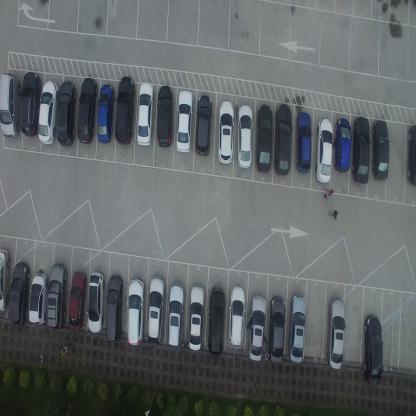car: (325, 296, 346, 370), (362, 313, 383, 386), (45, 262, 67, 331), (76, 76, 98, 144), (20, 71, 42, 137), (8, 260, 30, 326), (273, 102, 292, 176), (115, 76, 135, 146), (0, 70, 20, 140), (126, 277, 146, 347), (105, 272, 124, 344), (56, 79, 76, 147), (38, 78, 58, 146), (266, 296, 286, 364), (246, 294, 266, 362), (186, 283, 205, 353), (207, 286, 226, 356), (287, 293, 306, 363), (352, 114, 370, 186), (314, 116, 333, 184), (148, 276, 166, 345), (254, 104, 272, 172), (136, 80, 154, 146), (166, 282, 184, 348), (217, 100, 235, 165), (194, 94, 212, 158), (294, 110, 312, 174), (86, 271, 104, 335), (371, 118, 389, 181), (68, 269, 86, 332), (332, 117, 352, 173), (28, 271, 48, 326), (96, 83, 114, 143), (176, 89, 192, 154), (156, 84, 172, 148), (236, 104, 252, 168), (228, 286, 245, 346), (0, 247, 11, 316), (406, 125, 415, 185)
